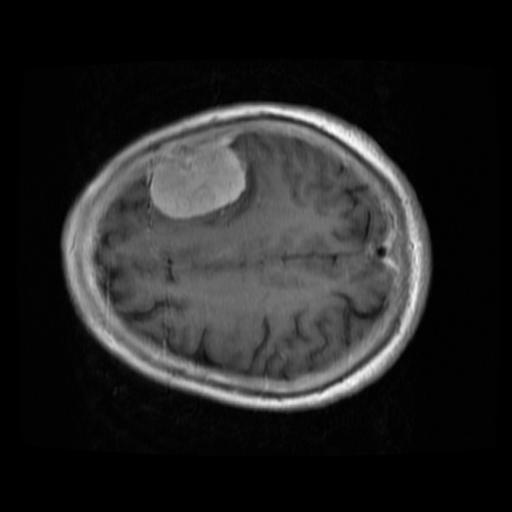meningioma: (149, 144, 242, 217)
